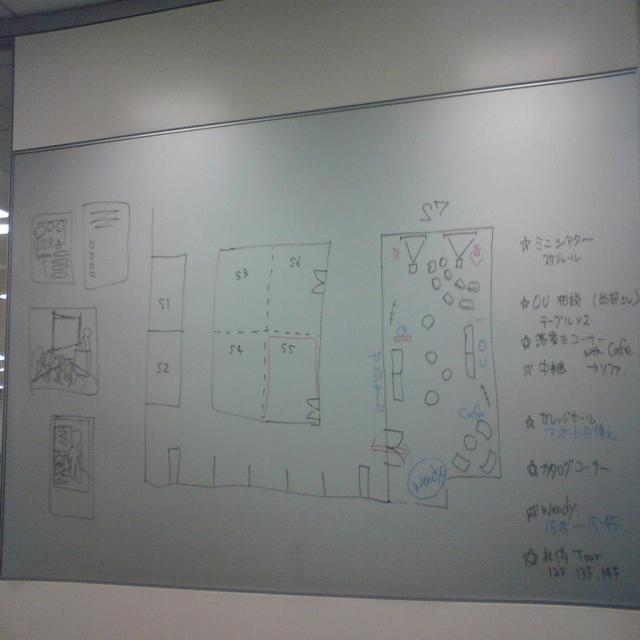Whiteboard: (1, 67, 639, 611)
